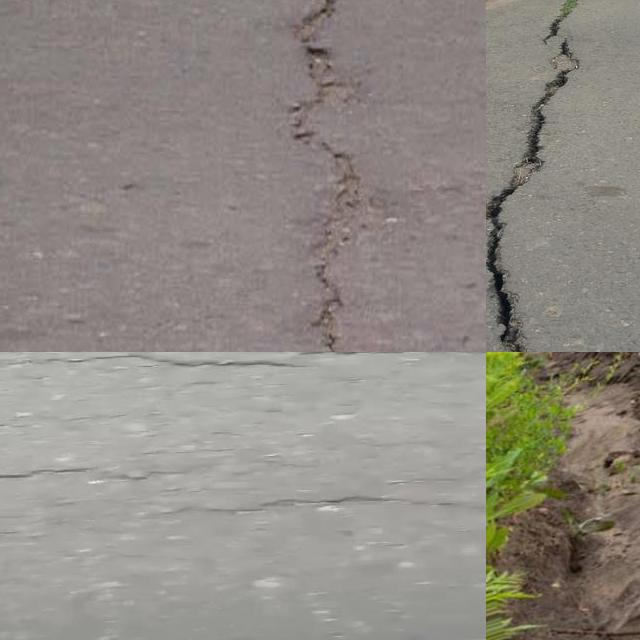Melintang: (0, 352, 486, 381)
Memanjang: (258, 0, 387, 352), (486, 0, 596, 352)
